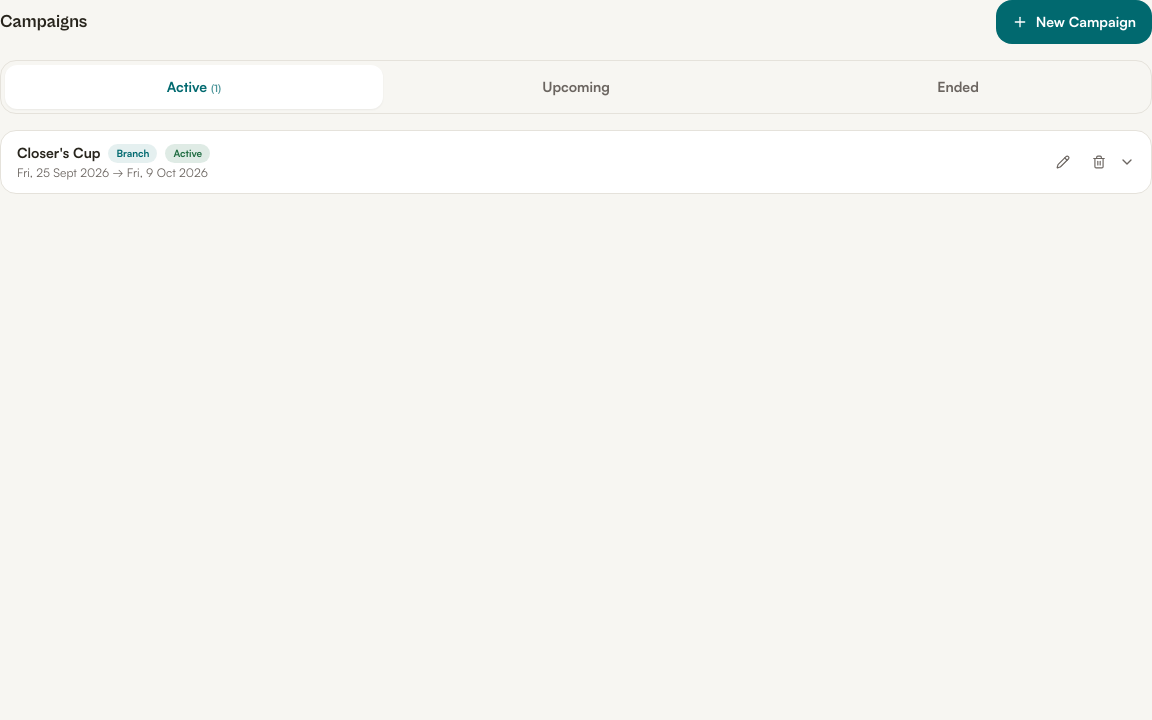
CampaignPanel — 2.9 tiered standings (display-only) › a placement campaign expands into the podium
Click the text "Closer's Cup".
click(59, 153)  # box [17,143,100,163]
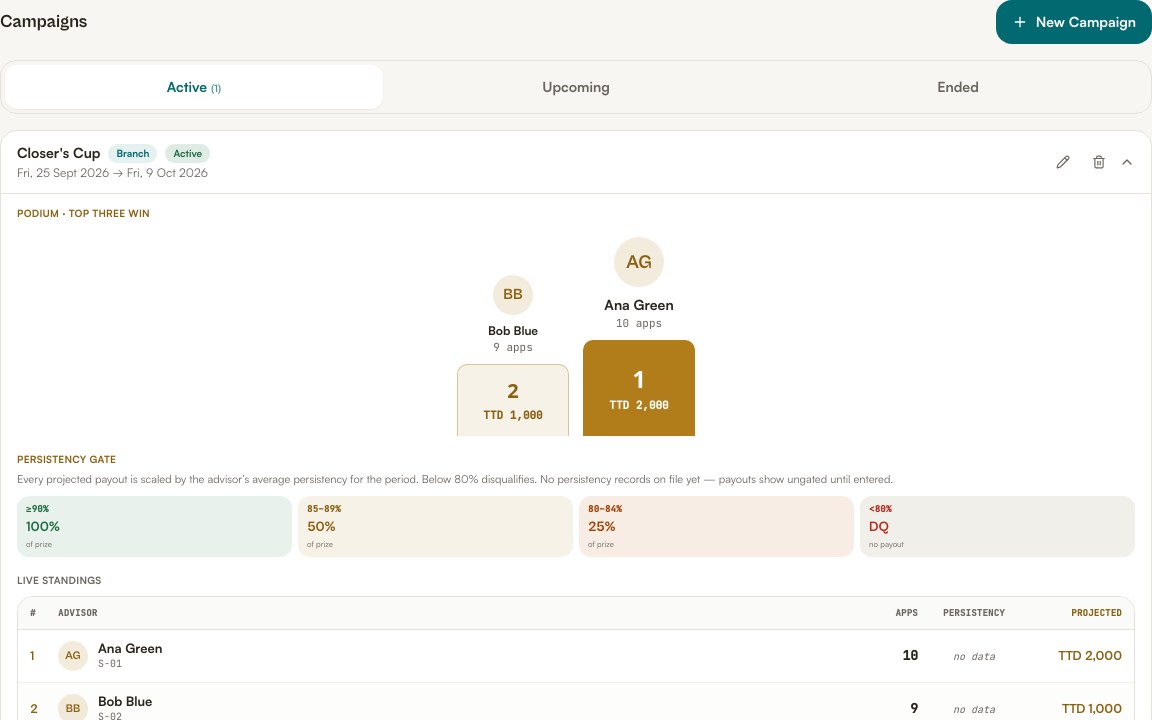
Result: the text "Podium · top three win" is shown at [17,207,150,219]
Result: the 1st text "Ana Green" is shown at [604,295,674,315]
Result: the text "Bob Blue" next to "10 apps" is shown at [488,323,538,338]
